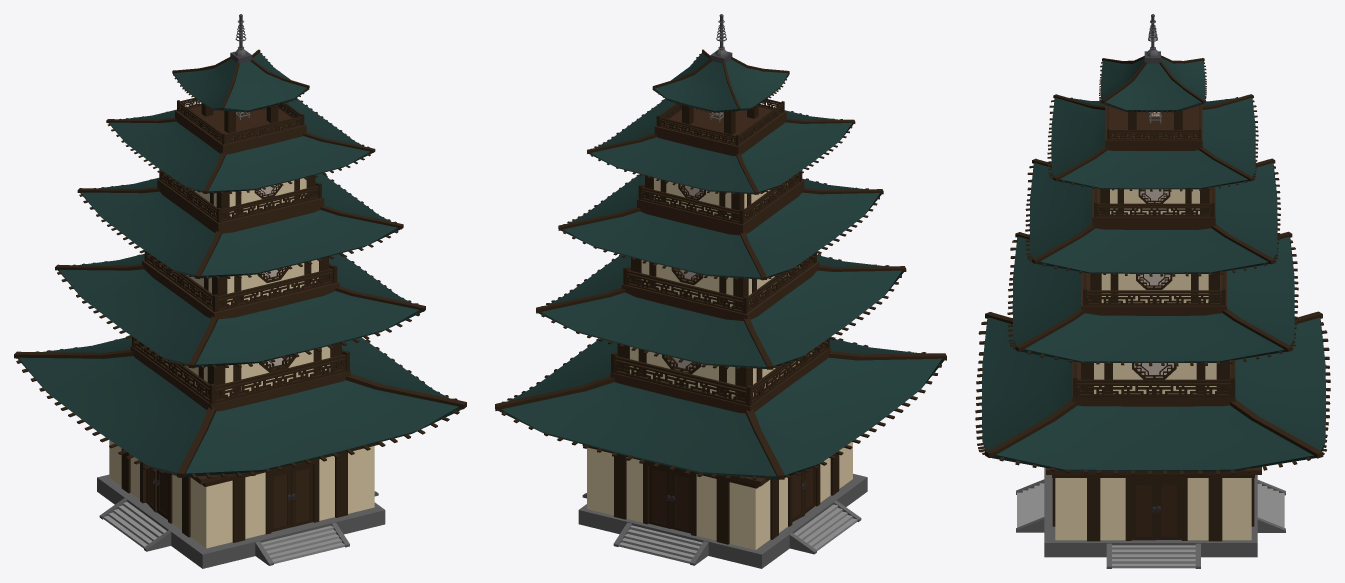
Rendered from houme010 2.fbx.
3 views of the same model, side by side, from view 1: azimuth 30°, elevation 25°; view 2: azimuth 150°, elevation 25°; view 3: azimuth 270°, elevation 25° (orthographic).
Visible parts, largest first — view 1: houme10_2, foundation_10_1_2, fence_10_1_2, fence_10_2_2, fence_10_3_2, fence_10_4_2; view 2: houme10_2, foundation_10_1_2, fence_10_1_2, fence_10_2_2, fence_10_3_2, fence_10_4_2; view 3: houme10_2, foundation_10_1_2, fence_10_1_2, fence_10_2_2, fence_10_3_2, fence_10_4_2, on_the_roof_10_1_2.
Boxes of the visible parts, box(x1,y1,x2,y2) form: houme10_2: box(14, 49, 466, 548); foundation_10_1_2: box(97, 474, 385, 568); fence_10_1_2: box(132, 337, 349, 404); fence_10_2_2: box(144, 251, 337, 312); fence_10_3_2: box(159, 169, 321, 222); fence_10_4_2: box(177, 97, 304, 144); houme10_2: box(495, 49, 946, 549); foundation_10_1_2: box(578, 473, 867, 568); fence_10_1_2: box(611, 338, 829, 405); fence_10_2_2: box(623, 253, 816, 313); fence_10_3_2: box(638, 170, 802, 224); fence_10_4_2: box(656, 99, 784, 145); houme10_2: box(975, 55, 1330, 541); foundation_10_1_2: box(1016, 467, 1285, 568); fence_10_1_2: box(1073, 360, 1234, 397); fence_10_2_2: box(1083, 271, 1225, 305); fence_10_3_2: box(1094, 187, 1214, 216); fence_10_4_2: box(1107, 105, 1201, 139); on_the_roof_10_1_2: box(1144, 14, 1160, 63).
Bounding box in the file's own units: 2243 × 3477 × 2248.
